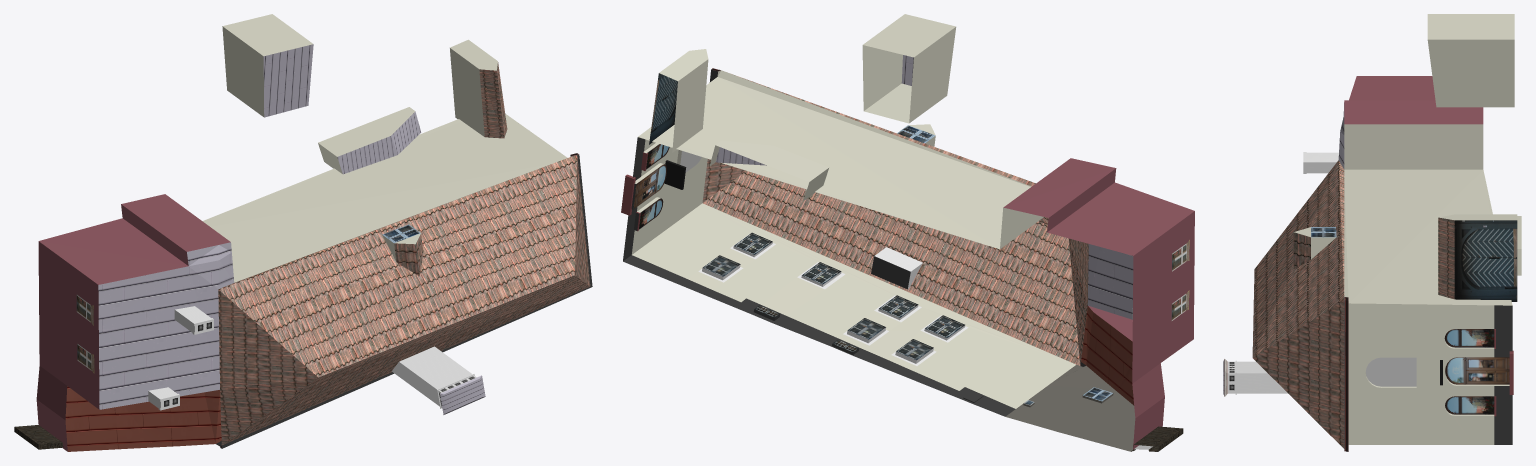
File: Ryytli11.obj
3 renders of one model, left to right at view 1: azimuth 30°, elevation 25°; view 2: azimuth 150°, elevation 25°; view 3: azimuth 270°, elevation 25°, orthographic. The views are drawn at different scales.
Visible parts, largest first — view 1: Ryytli_11; view 2: Ryytli_11; view 3: Ryytli_11.
Boxes of the visible parts, x1,y1,x2,y2 form: Ryytli_11: [14, 14, 592, 451]; Ryytli_11: [621, 14, 1194, 451]; Ryytli_11: [1223, 14, 1521, 451].
Size of the model in its own units: 31.47 by 20.26 by 14.99.
